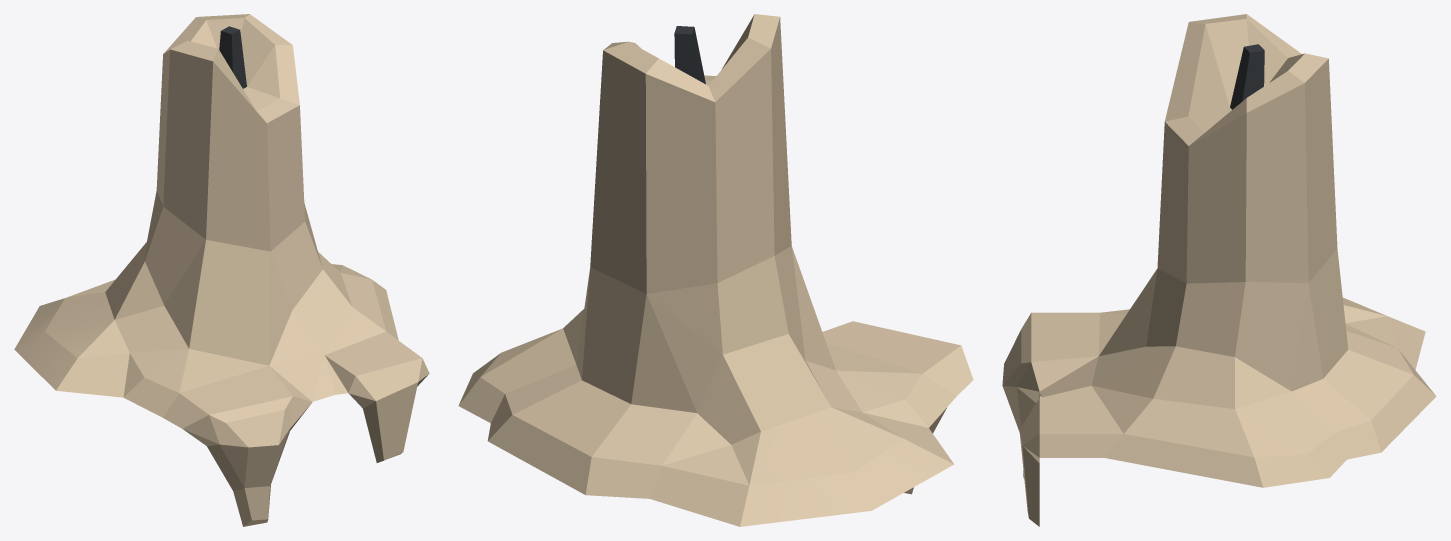
Rendered from SM_Prop_Candle_Melted_04.fbx.
3 views of the same model, side by side, from view 1: azimuth 30°, elevation 25°; view 2: azimuth 150°, elevation 25°; view 3: azimuth 270°, elevation 25° (orthographic). The views are drawn at different scales.
Visible parts, largest first — view 1: SM_Prop_Candle_Melted_04; view 2: SM_Prop_Candle_Melted_04; view 3: SM_Prop_Candle_Melted_04.
Boxes of the visible parts, x1=… form: SM_Prop_Candle_Melted_04: x1=14, y1=14, x2=429, y2=526; SM_Prop_Candle_Melted_04: x1=458, y1=14, x2=973, y2=526; SM_Prop_Candle_Melted_04: x1=1002, y1=14, x2=1436, y2=526.
Bounding box in the file's own units: 0.1804 × 0.2034 × 0.1667.
1 material, 1 textured.
